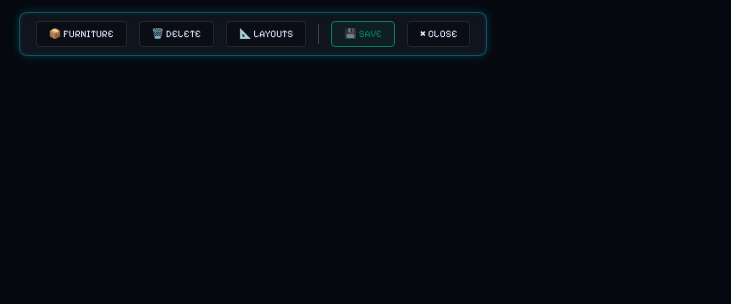
Scenario: LayoutEditor layout creation recovery › shows a pending state and prevents duplicate submissions
Click the button titled "Layout manager": click(266, 34) [226, 21, 306, 47]
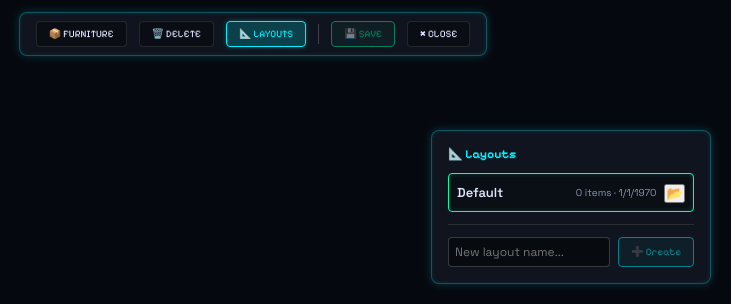
In the field with placeholder "New layout name...": (529, 252) [448, 237, 610, 267], type "Slow Layout"
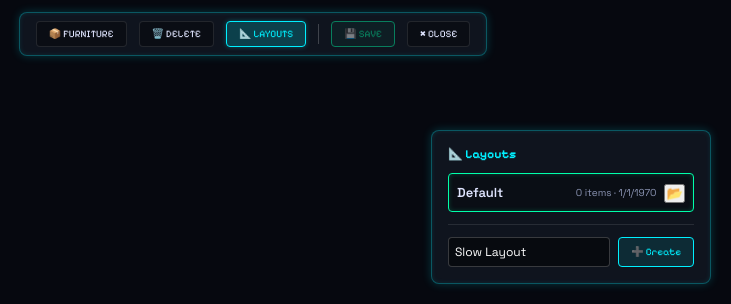
Submit the form with placeholder "New layout name...", box [448, 224, 694, 267]
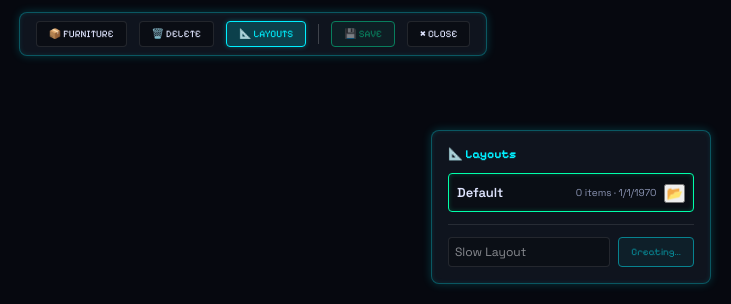
Now the button "Creating…" is disabled, box [618, 237, 694, 267]
Submit the form with placeholder "New layout name...", box [448, 224, 694, 267]
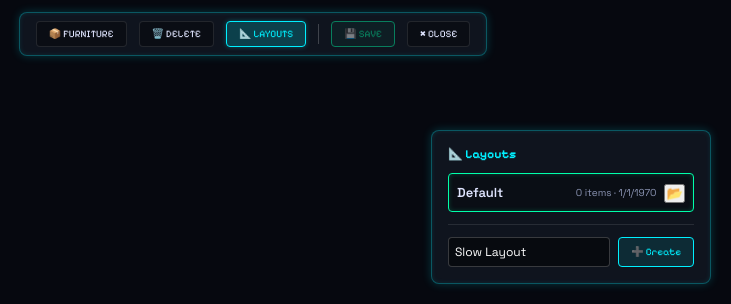
Now the button "➕ Create" is enabled, box [618, 237, 694, 267]
